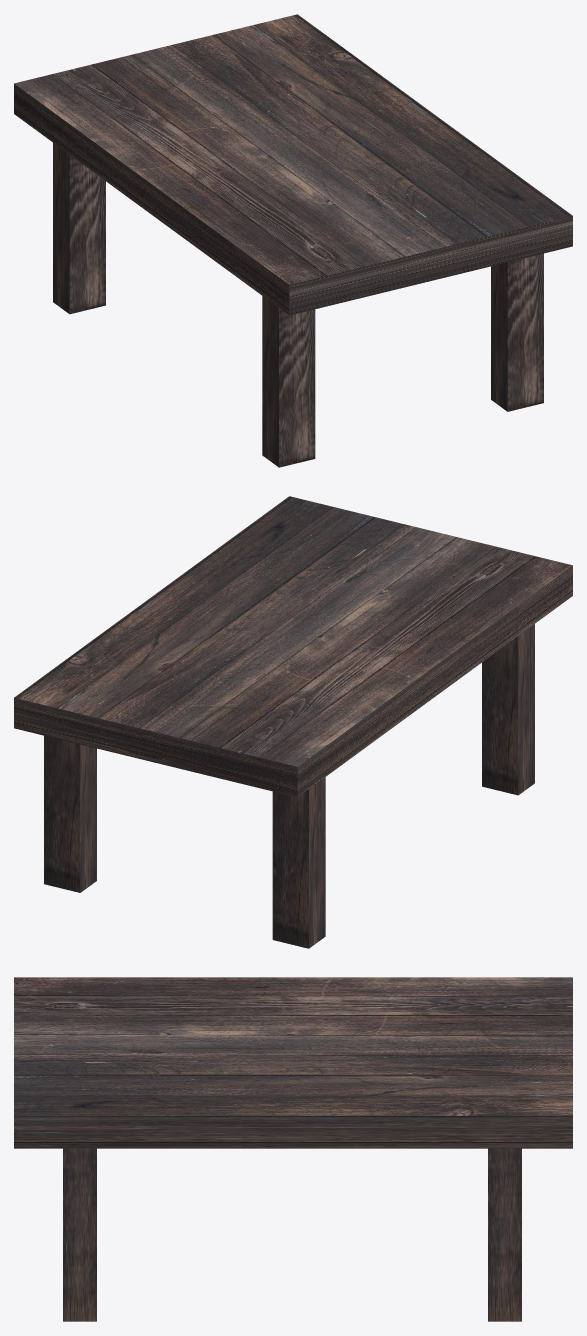
File: simple-table.glb
The picture shows the model from 3 angles, top to bottom: view 1: azimuth 30°, elevation 25°; view 2: azimuth 150°, elevation 25°; view 3: azimuth 270°, elevation 25°; orthographic projection.
Visible parts, largest first — view 1: Cube.000; view 2: Cube.000; view 3: Cube.000.
Part boxes in pixels (x1,y1,x2,y2): Cube.000: (14, 14, 572, 467); Cube.000: (14, 496, 572, 948); Cube.000: (14, 977, 572, 1321).
Bounding box in the file's own units: 1.56 × 1.07 × 2.63.
1 material, 1 textured.
